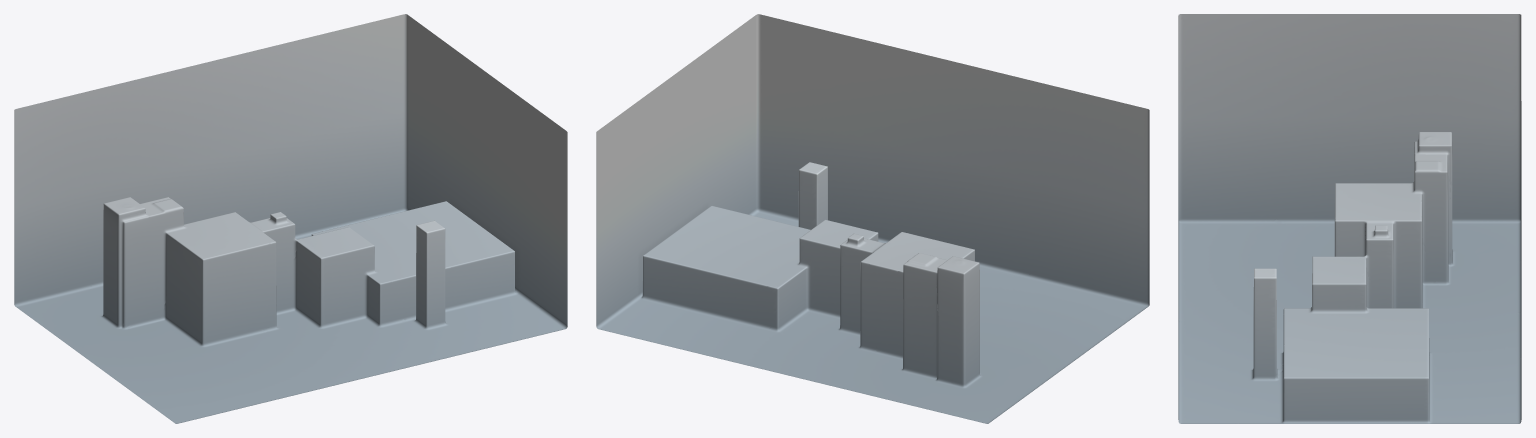
The model's file is frostmothers_cradle.glb.
The picture shows the model from 3 angles, left to right: view 1: azimuth 30°, elevation 25°; view 2: azimuth 150°, elevation 25°; view 3: azimuth 270°, elevation 25°; orthographic projection. The views are drawn at different scales.
Visible parts, largest first — view 1: shell_cradle, shell_melt_mouth, shell_gallery, shell_crevasse, shell_blue_run, shell_pinch, shell_cistern; view 2: shell_crevasse, shell_gallery, shell_cradle, shell_cistern, shell_melt_mouth, shell_pinch, shell_blue_run; view 3: shell_melt_mouth, shell_gallery, shell_cradle, shell_pinch, shell_crevasse, shell_cistern, shell_blue_run.
Boxes of the visible parts, x1,y1,x2,y2 form: shell_cradle: (283, 14, 540, 318); shell_melt_mouth: (14, 81, 149, 388); shell_gallery: (128, 214, 297, 423); shell_crevasse: (368, 83, 567, 376); shell_blue_run: (90, 58, 225, 339); shell_pinch: (197, 37, 313, 333); shell_cistern: (264, 227, 405, 394); shell_crevasse: (689, 14, 1004, 246); shell_gallery: (858, 73, 1149, 368); shell_cradle: (596, 64, 803, 359); shell_cistern: (762, 131, 1030, 340); shell_melt_mouth: (913, 256, 1099, 423); shell_pinch: (724, 232, 908, 381); shell_blue_run: (813, 253, 992, 405); shell_melt_mouth: (1180, 14, 1521, 261); shell_gallery: (1178, 14, 1465, 304); shell_cradle: (1238, 313, 1521, 423); shell_pinch: (1334, 216, 1521, 359); shell_crevasse: (1178, 268, 1302, 423); shell_cistern: (1178, 256, 1455, 365); shell_blue_run: (1391, 101, 1521, 313).
Bounding box in the file's own units: 142 × 67.86 × 101.
